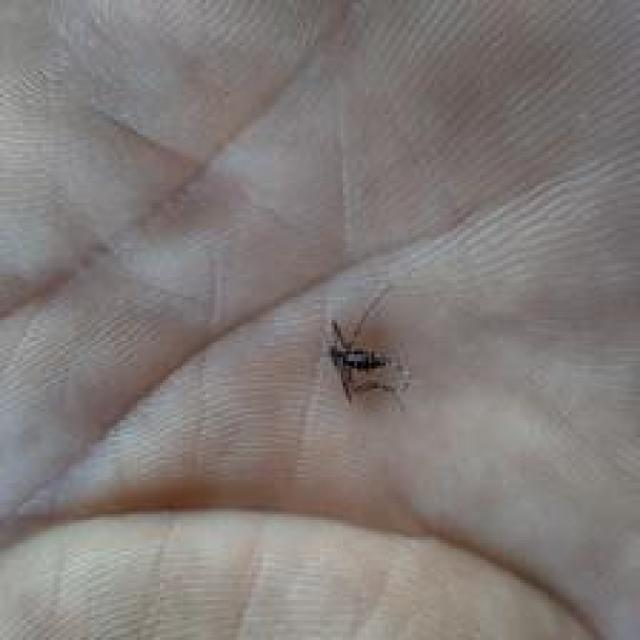Aedes albopictus: (323, 284, 411, 410)
